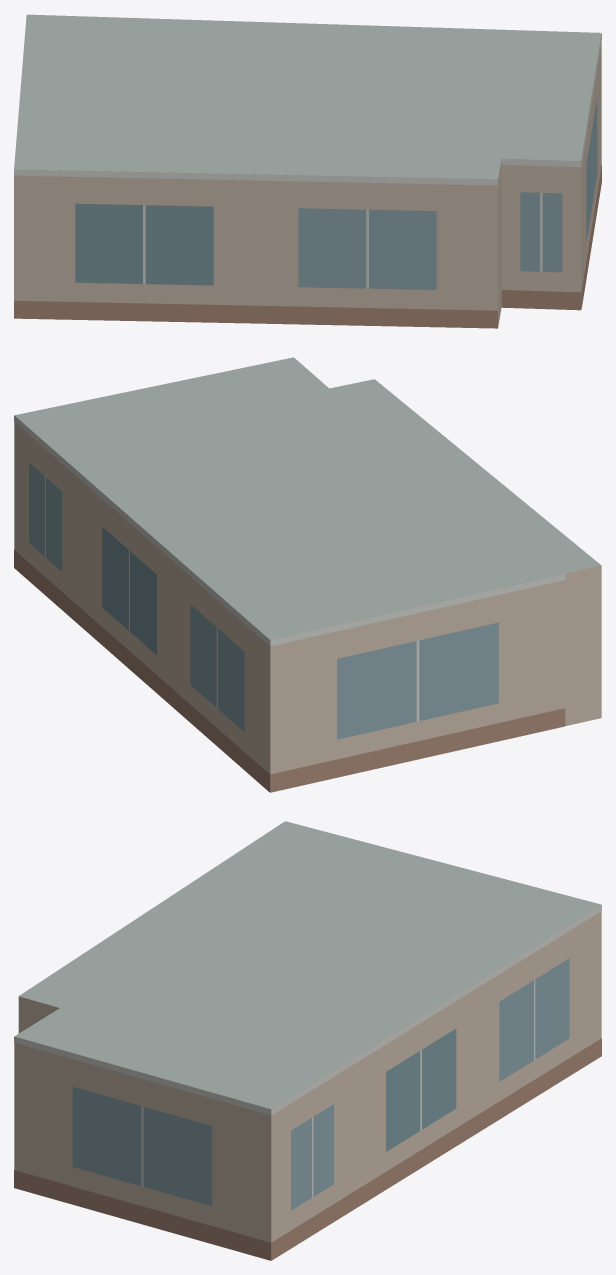
Rendered from survey-upis-32904887.glb.
3 renders of one model, top to bottom at view 1: azimuth 30°, elevation 25°; view 2: azimuth 150°, elevation 25°; view 3: azimuth 270°, elevation 25°, orthographic. The views are drawn at different scales.
Visible parts, largest first — view 1: survey-upis-32904887.tmp; view 2: survey-upis-32904887.tmp; view 3: survey-upis-32904887.tmp.
Boxes of the visible parts, x1=… form: survey-upis-32904887.tmp: x1=14, y1=14, x2=601, y2=328; survey-upis-32904887.tmp: x1=14, y1=357, x2=601, y2=792; survey-upis-32904887.tmp: x1=14, y1=821, x2=601, y2=1260.
Size of the model in its own units: 12.45 by 3.05 by 10.73.
